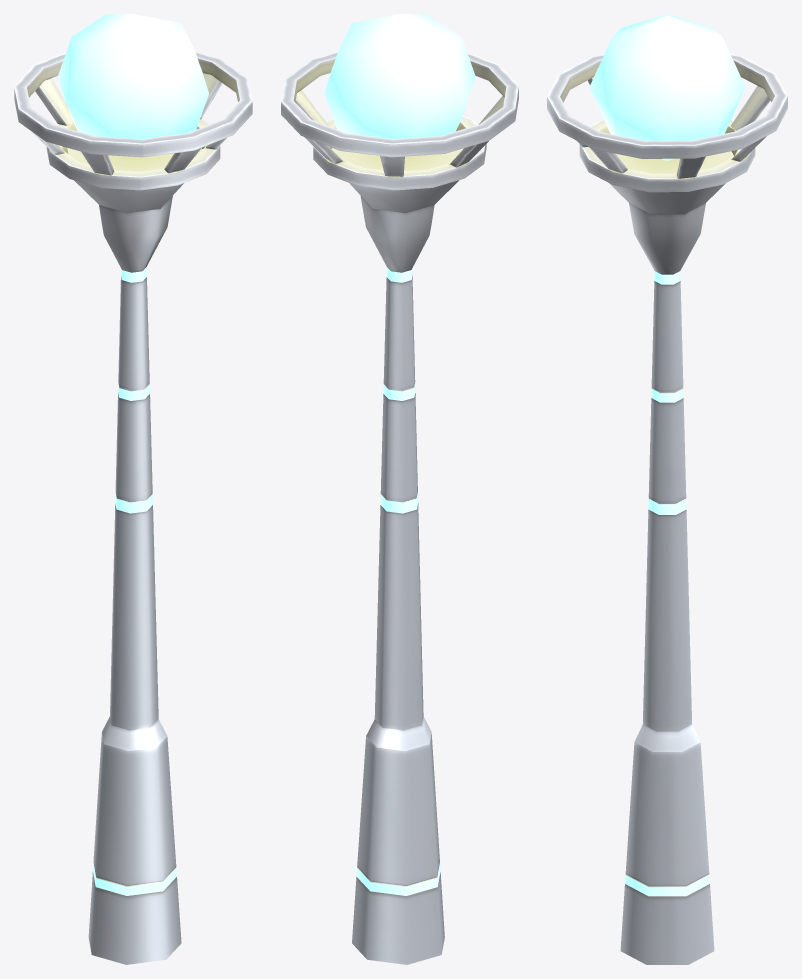
The model's file is obj_light02.gltf.
3 renders of one model, left to right at view 1: azimuth 30°, elevation 25°; view 2: azimuth 150°, elevation 25°; view 3: azimuth 270°, elevation 25°, orthographic.
Visible parts, largest first — view 1: obj_light02; view 2: obj_light02; view 3: obj_light02.
Boxes of the visible parts, box(x1,y1,x2,y2) form: obj_light02: box(14, 14, 252, 964); obj_light02: box(281, 14, 518, 964); obj_light02: box(547, 14, 787, 964).
Size of what is drawn, in the model's own units: 0.5724 by 2.5 by 0.5862.
Materials: 2 (1 with a texture image).
